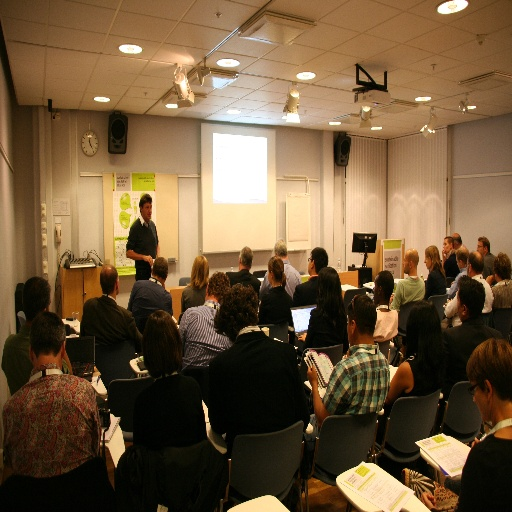hand: (419, 492, 437, 510), (305, 364, 317, 385), (142, 251, 154, 268), (470, 435, 481, 448), (296, 332, 306, 344), (485, 273, 494, 286), (441, 247, 448, 262)
